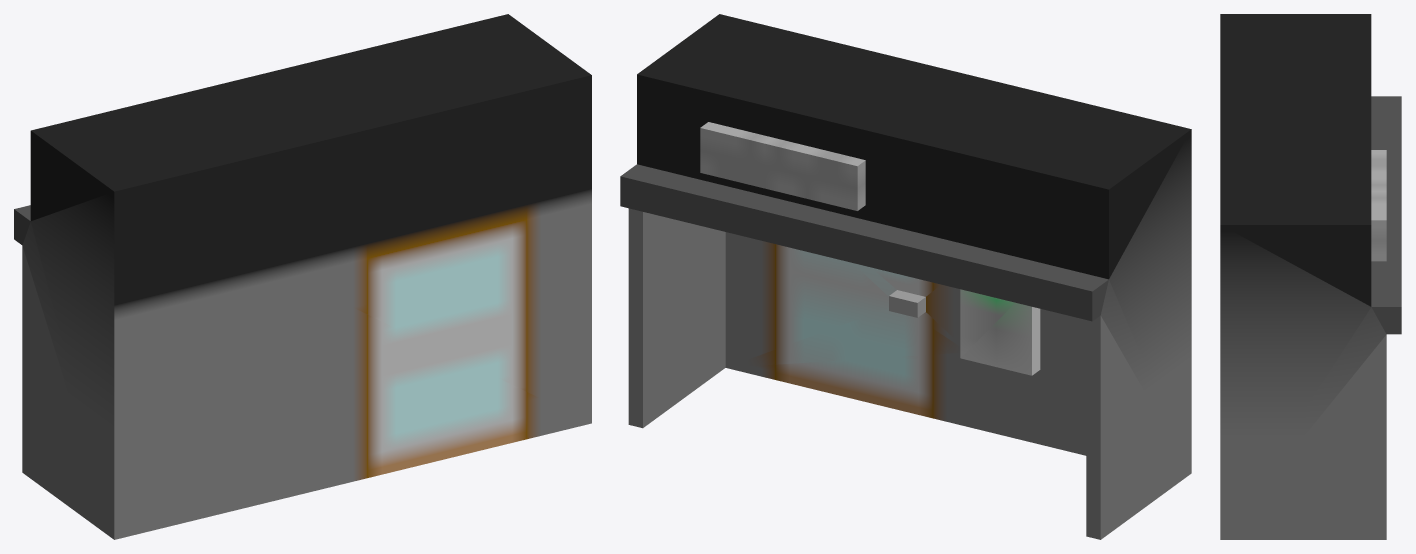
File: obj_store8.dae
3 views of the same model, side by side, from view 1: azimuth 30°, elevation 25°; view 2: azimuth 150°, elevation 25°; view 3: azimuth 270°, elevation 25° (orthographic). The views are drawn at different scales.
Visible parts, largest first — view 1: obj_store8; view 2: obj_store8; view 3: obj_store8.
Boxes of the visible parts, x1,y1,x2,y2 form: obj_store8: [14, 14, 591, 539]; obj_store8: [620, 14, 1191, 539]; obj_store8: [1220, 14, 1401, 539].
Bounding box in the file's own units: 3.3 × 1.2 × 2.3.
1 material, 1 textured.
